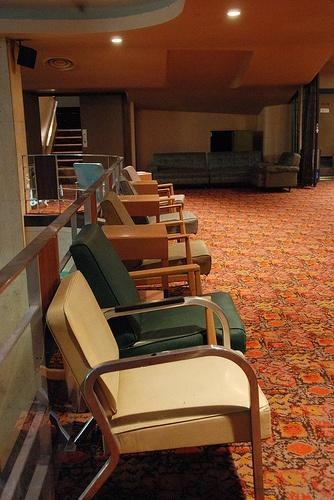chair: (46, 268, 274, 500), (72, 223, 250, 355), (102, 191, 212, 275), (116, 178, 185, 210), (256, 151, 303, 192), (121, 166, 176, 196)
sofa: (148, 153, 263, 191)
